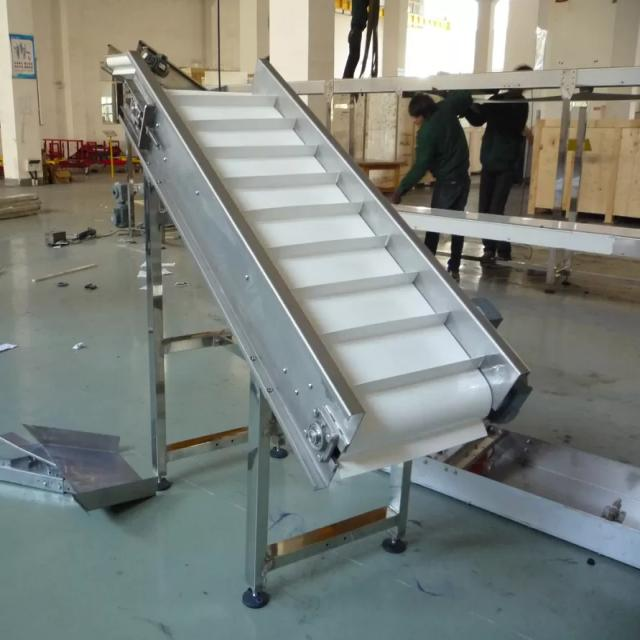conveyor: (88, 20, 552, 532)
